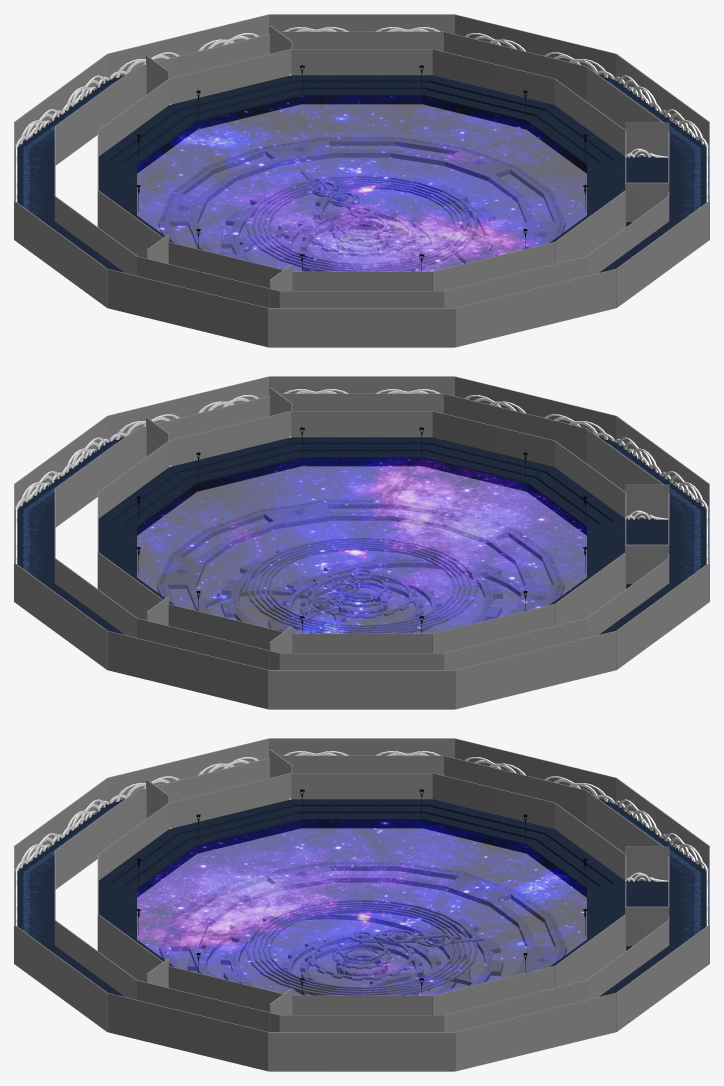
Rendered from stage05_detach.FBX.
3 views of the same model, one above another, from view 1: azimuth 30°, elevation 25°; view 2: azimuth 150°, elevation 25°; view 3: azimuth 270°, elevation 25° (orthographic).
Visible parts, largest first — view 1: Ground01, Wall01, Wall03, Wall02, Tooth, Stairs, Ground02, Wall04, fence, Bridge002; view 2: Ground01, Wall01, Wall03, Wall02, Tooth, Stairs, Ground02, Wall04, fence, Bridge003; view 3: Ground01, Wall01, Wall03, Wall02, Tooth, Stairs, Ground02, Wall04, fence, Bridge01, Needle_short.
Boxes of the visible parts, left/top/right/bottom form: Ground01: left=137, top=96, right=586, bottom=271; Wall01: left=14, top=14, right=709, bottom=347; Wall03: left=97, top=49, right=626, bottom=290; Wall02: left=54, top=31, right=669, bottom=307; Tooth: left=158, top=137, right=565, bottom=271; Stairs: left=98, top=75, right=625, bottom=242; Ground02: left=15, top=75, right=708, bottom=272; Wall04: left=146, top=25, right=669, bottom=307; fence: left=15, top=27, right=708, bottom=201; Bridge002: left=626, top=156, right=668, bottom=226; Ground01: left=137, top=458, right=586, bottom=633; Wall01: left=14, top=376, right=709, bottom=709; Wall03: left=97, top=411, right=626, bottom=652; Wall02: left=54, top=393, right=669, bottom=669; Tooth: left=157, top=500, right=564, bottom=633; Stairs: left=98, top=437, right=625, bottom=604; Ground02: left=15, top=437, right=708, bottom=634; Wall04: left=146, top=387, right=669, bottom=669; fence: left=15, top=389, right=708, bottom=563; Bridge003: left=626, top=518, right=668, bottom=588; Ground01: left=137, top=820, right=586, bottom=995; Wall01: left=14, top=738, right=709, bottom=1071; Wall03: left=97, top=773, right=626, bottom=1014; Wall02: left=54, top=755, right=669, bottom=1031; Tooth: left=159, top=862, right=566, bottom=995; Stairs: left=98, top=799, right=625, bottom=966; Ground02: left=15, top=799, right=708, bottom=996; Wall04: left=146, top=749, right=669, bottom=1031; fence: left=15, top=751, right=708, bottom=925; Bridge01: left=626, top=880, right=668, bottom=950; Needle_short: left=365, top=929, right=446, bottom=943.
Bounding box in the file's own units: 1458 × 252 × 1458.
